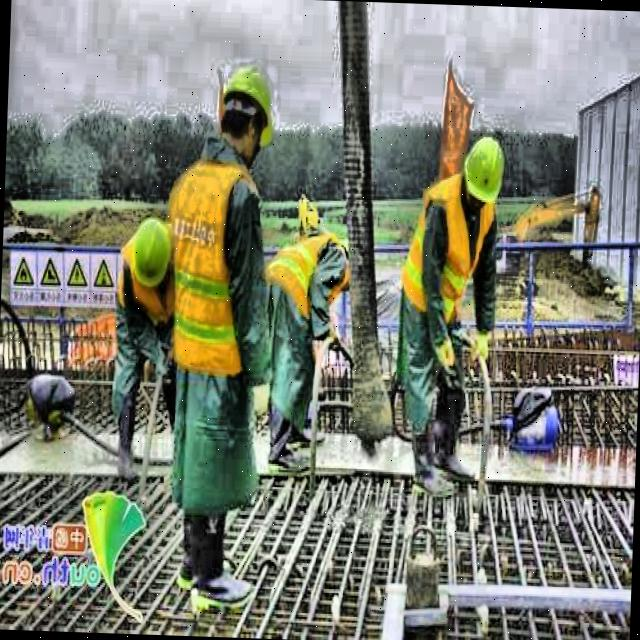helmet: (214, 56, 279, 170), (120, 215, 178, 302), (459, 128, 507, 218)
